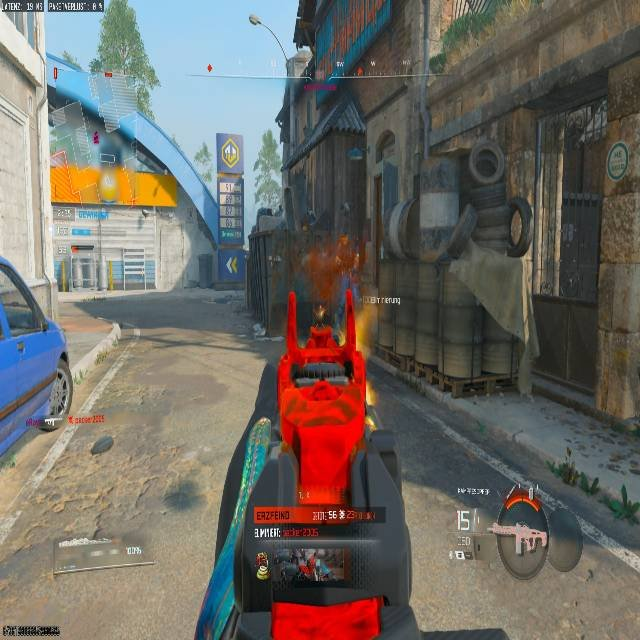player: (323, 243, 361, 334)
